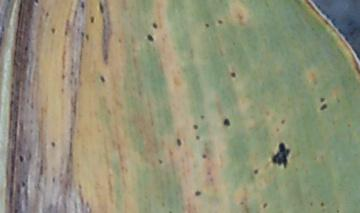tarspot: (272, 143, 292, 169), (221, 116, 231, 127), (98, 2, 105, 13), (146, 33, 154, 42), (98, 74, 106, 83), (17, 153, 25, 162), (228, 70, 237, 78), (175, 136, 182, 146), (191, 123, 199, 131), (318, 200, 326, 208), (320, 104, 328, 112), (19, 179, 27, 187), (151, 21, 158, 30), (89, 15, 96, 23), (79, 1, 86, 9), (48, 140, 56, 147), (194, 189, 201, 197), (198, 112, 205, 120), (252, 167, 259, 175), (262, 201, 269, 209), (319, 95, 326, 103), (335, 96, 342, 104), (345, 121, 352, 129), (84, 32, 90, 41), (280, 117, 286, 126), (231, 38, 237, 47), (22, 45, 29, 52), (216, 18, 223, 25), (50, 26, 56, 34), (157, 157, 163, 165), (203, 22, 211, 28), (51, 175, 56, 184), (201, 153, 208, 159), (195, 134, 201, 141), (44, 11, 50, 17), (13, 207, 19, 213), (239, 200, 245, 206), (117, 37, 123, 43), (32, 1, 39, 5), (335, 208, 339, 213), (168, 210, 174, 213)
